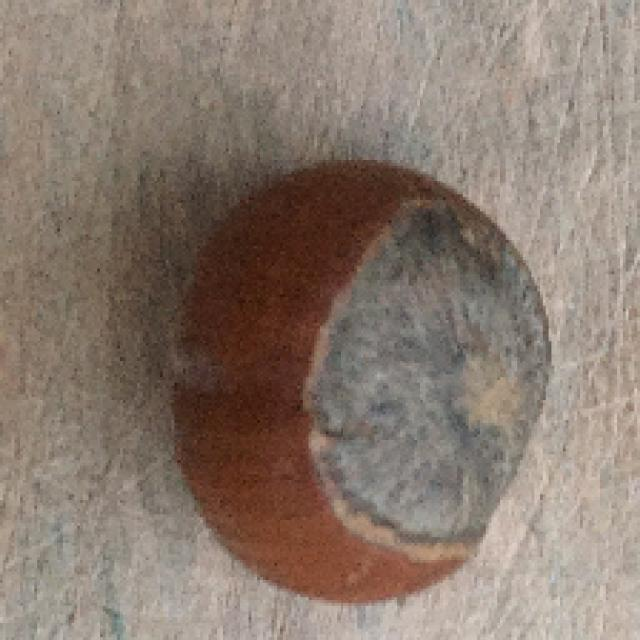qualityHazelnut: (172, 156, 552, 600)
